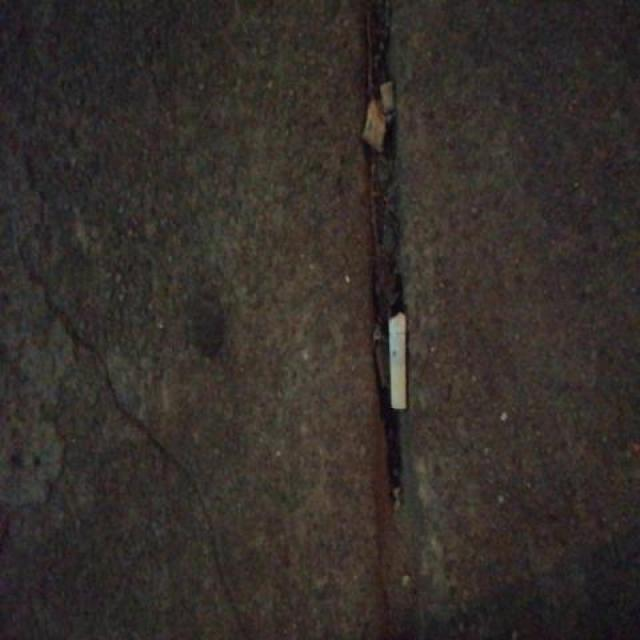non-organic waste: (386, 309, 411, 415)
